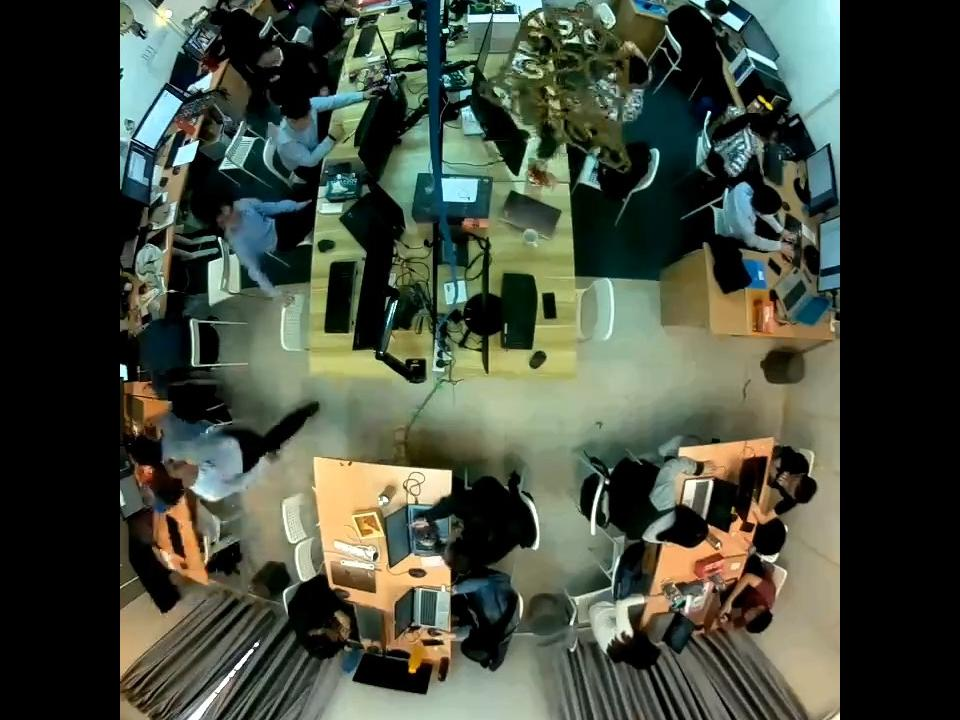name-tag: (203, 458, 217, 468)
